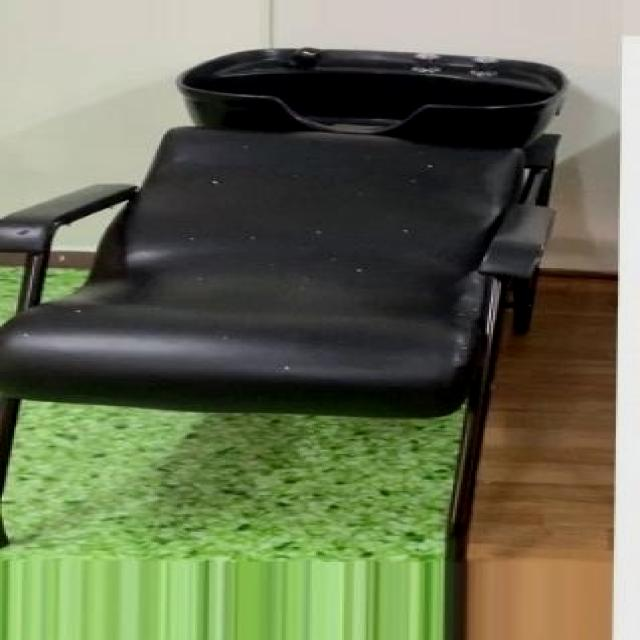Chair: (3, 43, 577, 640)
